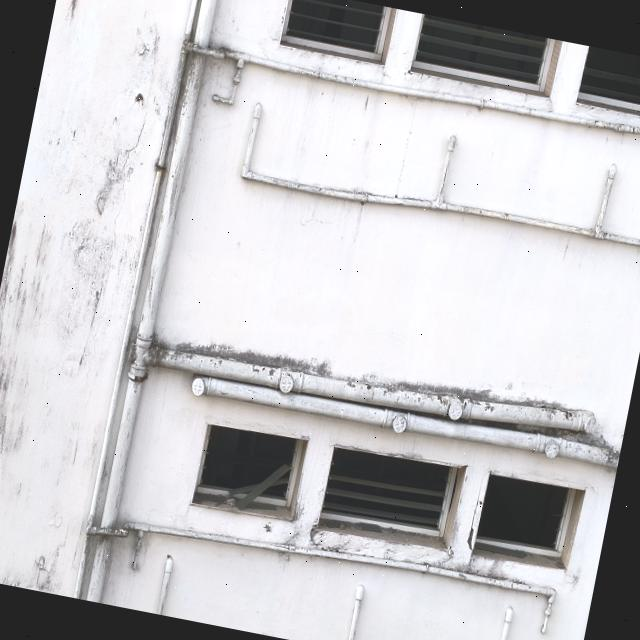Corrosion stain: (71, 37, 640, 589)
